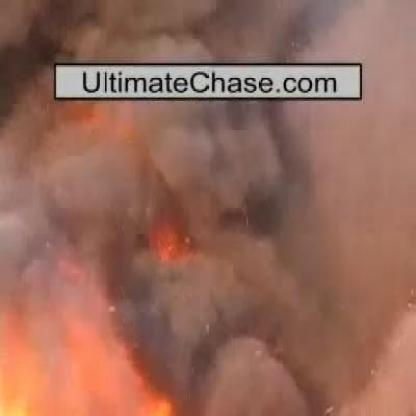-: (14, 106, 381, 322), (32, 1, 354, 59)
